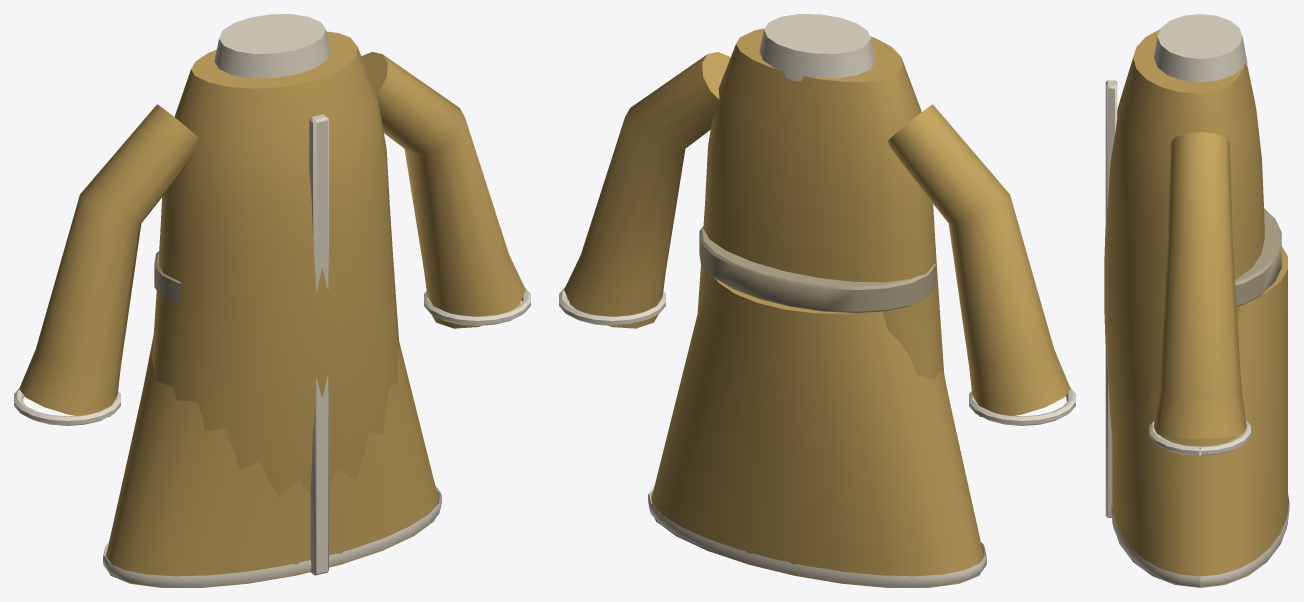
File: apprentice_robe.glb
3 renders of one model, left to right at view 1: azimuth 30°, elevation 25°; view 2: azimuth 150°, elevation 25°; view 3: azimuth 270°, elevation 25°, orthographic. The views are drawn at different scales.
Visible parts, largest first — view 1: apprentice_robe; view 2: apprentice_robe; view 3: apprentice_robe.
Part boxes in pixels (bbox=[...]): apprentice_robe: bbox=[14, 14, 530, 587]; apprentice_robe: bbox=[559, 14, 1075, 587]; apprentice_robe: bbox=[1104, 14, 1289, 587].
Size of the model in its own units: 0.9343 by 0.8942 by 0.3135.
